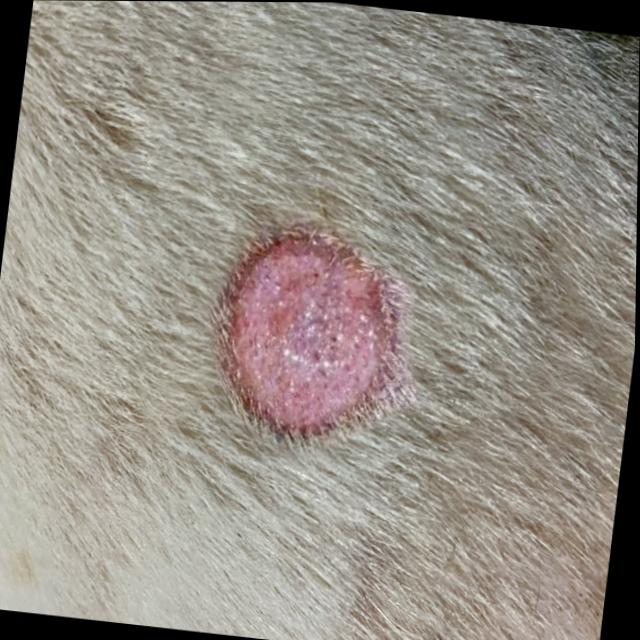ringworm: (171, 160, 433, 493)
